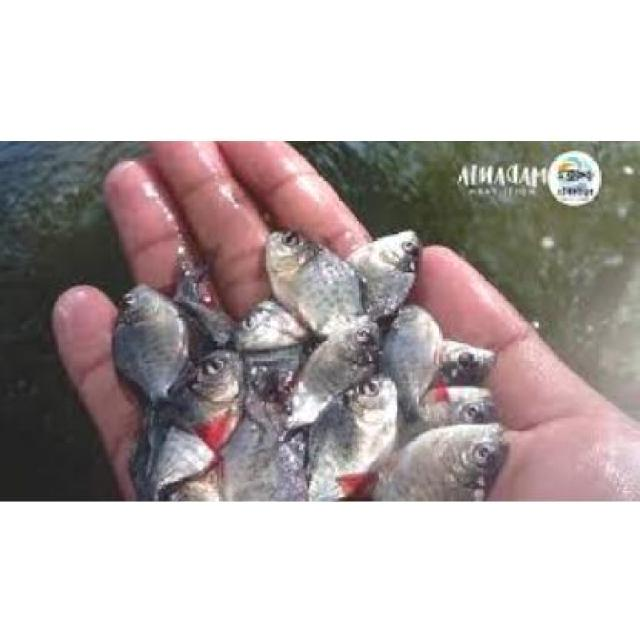ikan-pacu: (142, 348, 250, 498), (304, 378, 407, 498), (386, 420, 516, 500), (291, 316, 384, 416), (112, 280, 183, 397), (344, 222, 422, 316), (384, 302, 450, 412), (420, 383, 497, 417)
